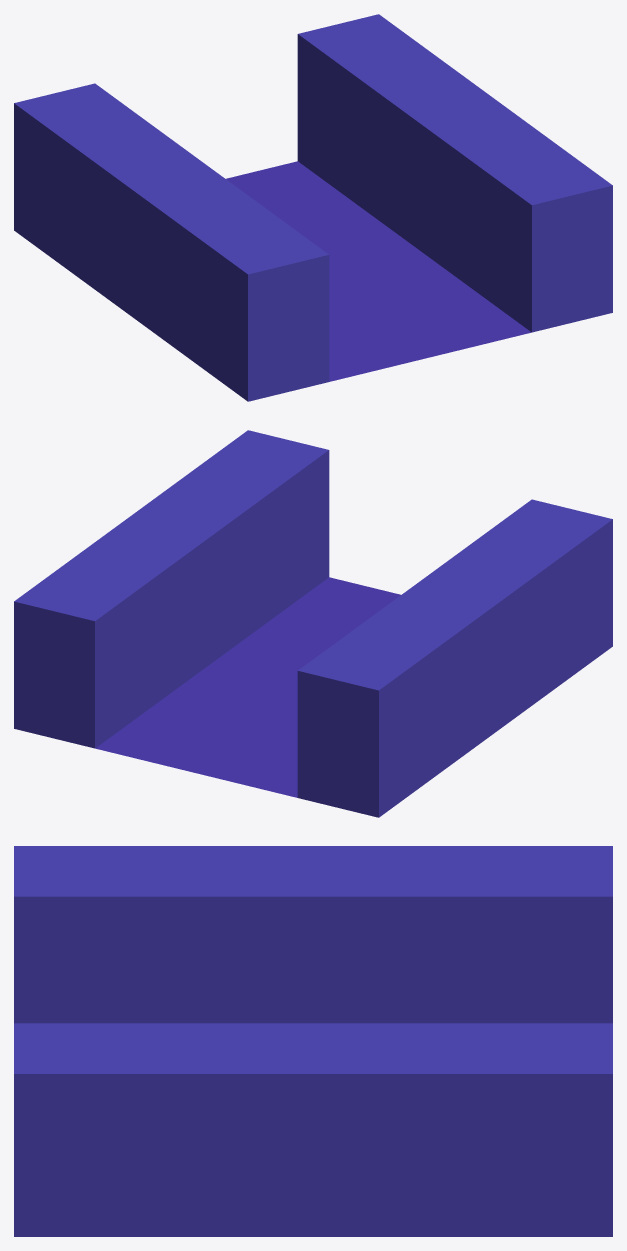
Rendered from road.fbx.
3 renders of one model, top to bottom at view 1: azimuth 30°, elevation 25°; view 2: azimuth 150°, elevation 25°; view 3: azimuth 270°, elevation 25°, orthographic. The views are drawn at different scales.
Parts seen in each view (by area): view 1: road; view 2: road; view 3: road.
Boxes of the visible parts, <box> form: road: <box>14,14,612,401</box>; road: <box>14,430,612,817</box>; road: <box>14,846,612,1236</box>.
Size of the model in its own units: 180 by 60 by 200.
